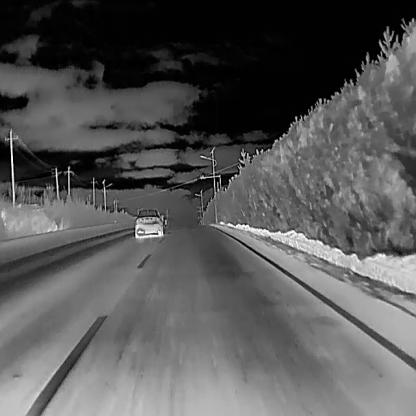car: (134, 207, 163, 238)
